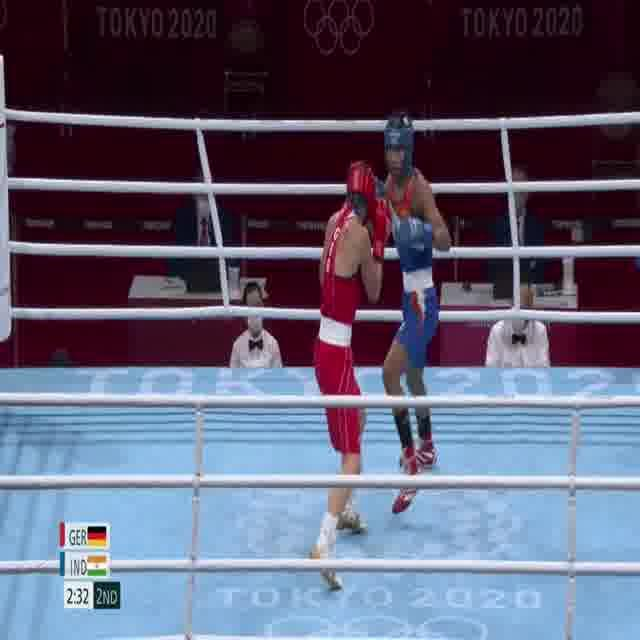blue-player: (358, 113, 456, 516)
red-player: (306, 162, 394, 594)
